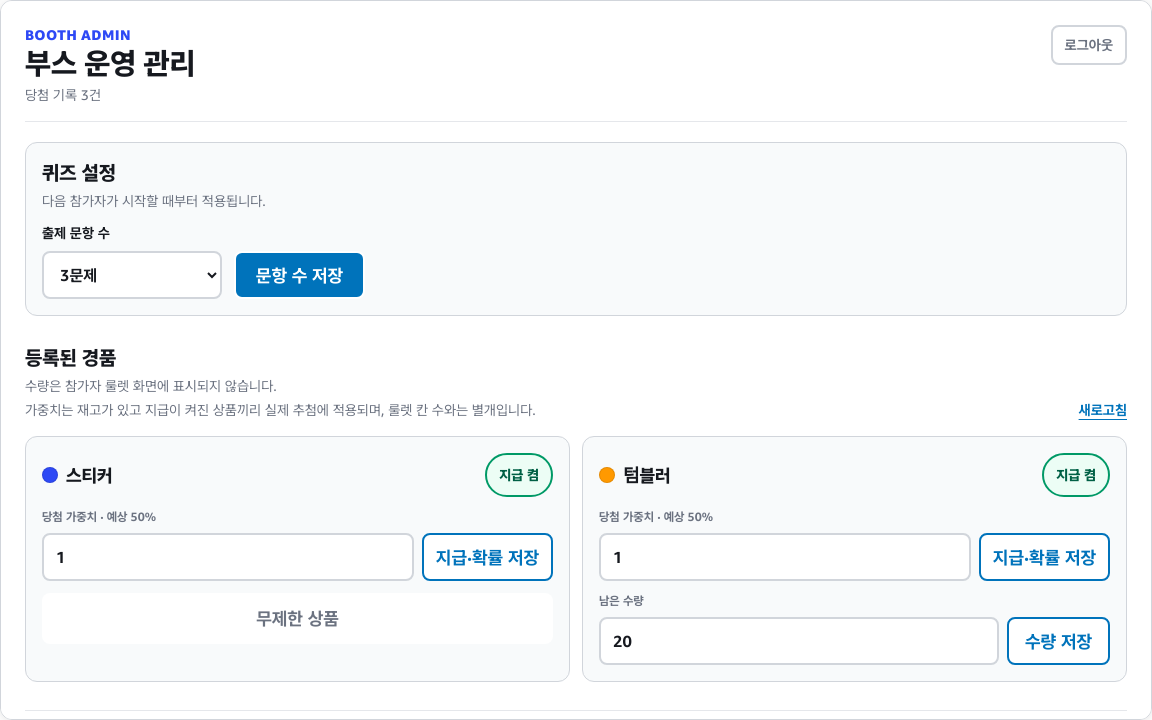
Test case: /admin 경품 관리 › 유한 상품의 남은 수량을 수정한다
Replace the text in the number field named "텀블러 남은 수량" with "7": coordinates (799, 641) [599, 617, 999, 665]
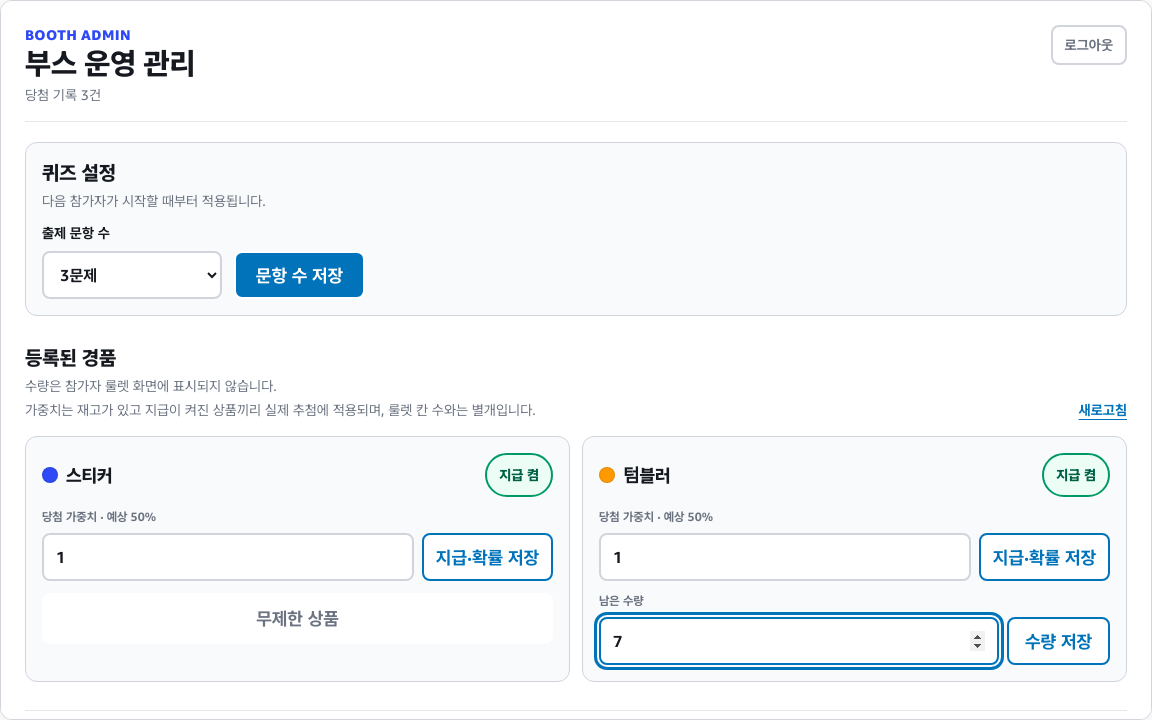
Click the button "수량 저장": coordinates (1058, 641) [1007, 617, 1110, 665]
(page scrolled)
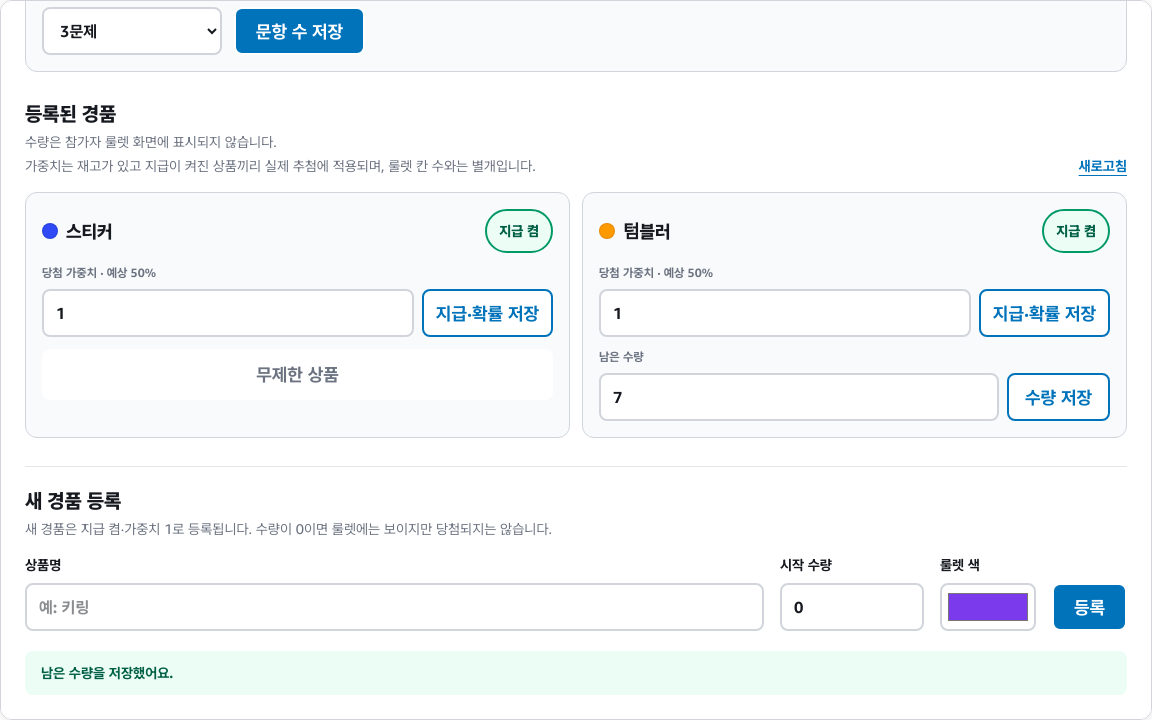
Now the message reads "남은 수량을 저장했어요.", box [41, 664, 173, 681]
